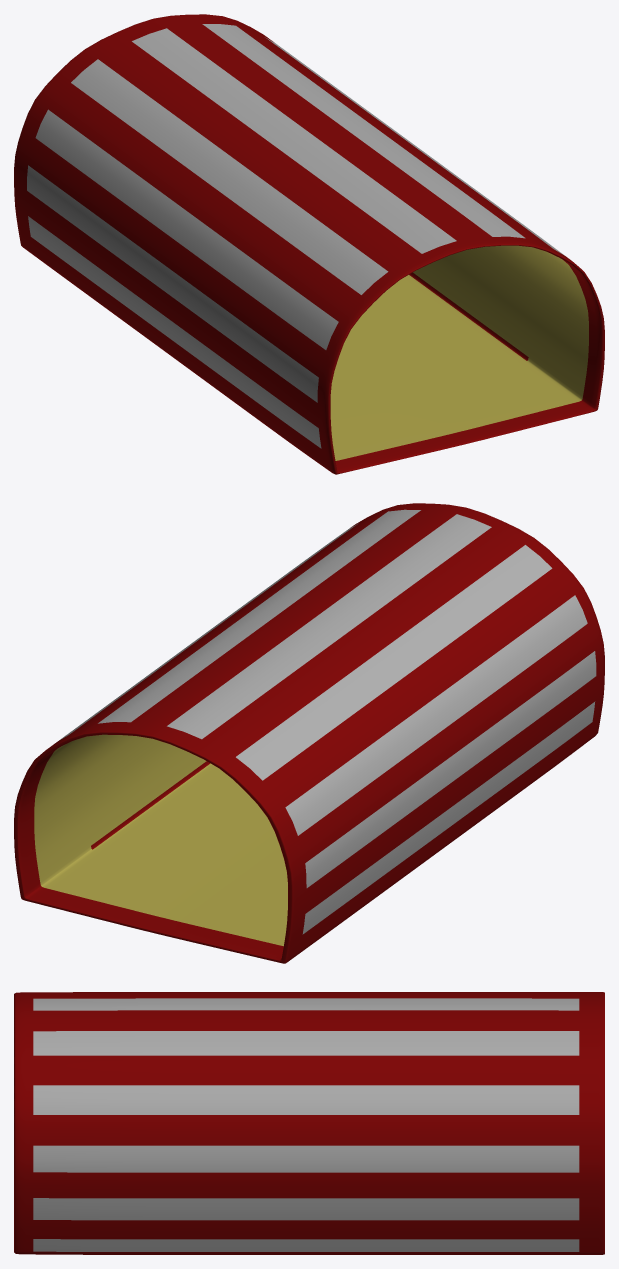
The model's file is Pathway-New.fbx.
The picture shows the model from 3 angles, top to bottom: view 1: azimuth 30°, elevation 25°; view 2: azimuth 150°, elevation 25°; view 3: azimuth 270°, elevation 25°; orthographic projection. The views are drawn at different scales.
Parts seen in each view (by area): view 1: pCylinder7; view 2: pCylinder7; view 3: pCylinder7.
Boxes of the visible parts, x1,y1,x2,y2 form: pCylinder7: (14,14,604,474); pCylinder7: (14,503,604,963); pCylinder7: (14,992,604,1254).
Size of the model in its own units: 9.03 by 6.09 by 17.57.
